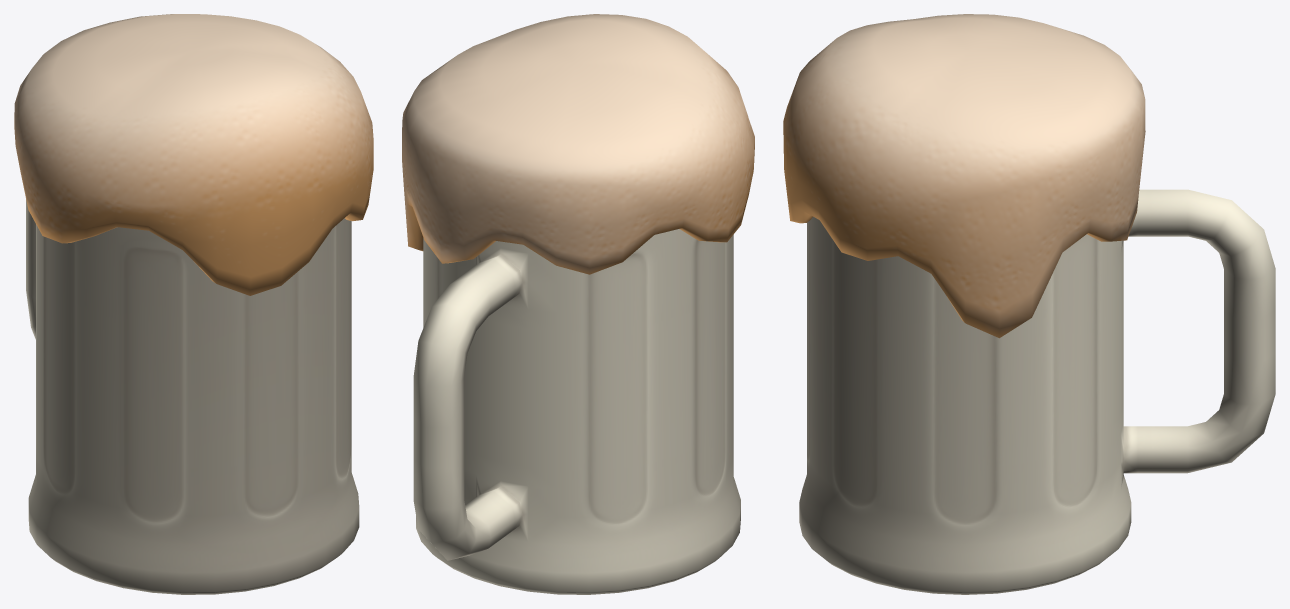
The model's file is Beer.fbx.
3 renders of one model, left to right at view 1: azimuth 30°, elevation 25°; view 2: azimuth 150°, elevation 25°; view 3: azimuth 270°, elevation 25°, orthographic.
Visible parts, largest first — view 1: Beer; view 2: Beer; view 3: Beer.
Part boxes in pixels (x1,y1,x2,y2): Beer: (14, 14, 373, 594); Beer: (402, 14, 754, 594); Beer: (783, 14, 1275, 594).
Bounding box in the file's own units: 64.6 × 95.11 × 88.26.
Materials: 2 (2 with a texture image).
